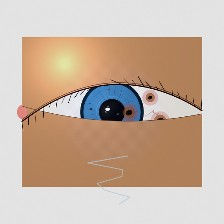foreign_body_visible: (139, 89, 161, 106)
